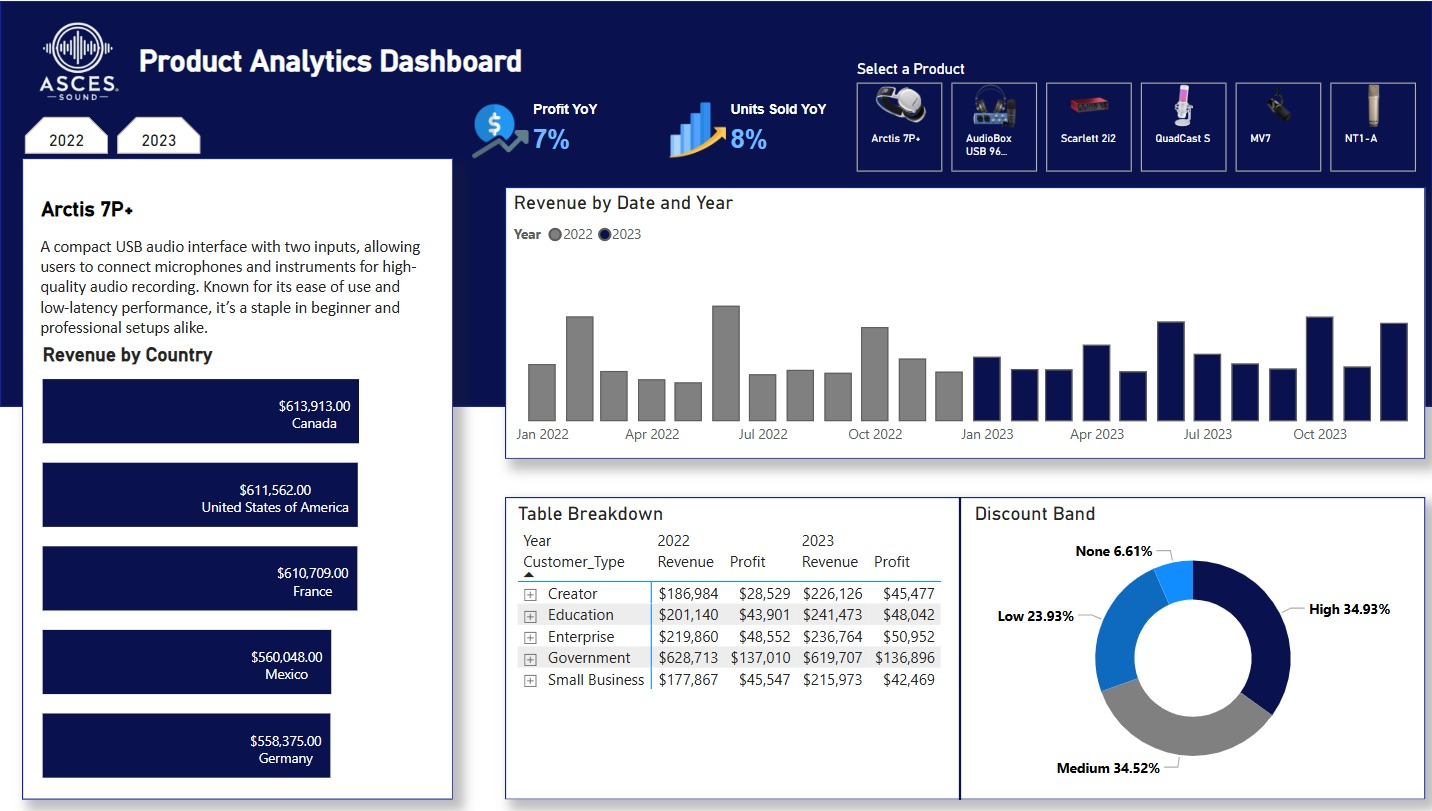

What the dashboard file says about the page in this screenshot:
{"tool":"powerbi","page":{"name":"Page 1","canvas":[1280,720],"ordinal":0},"visuals":[{"type":"shape","box":[9.7,0,1270.3,359.9],"z":0},{"type":"shape","box":[29.2,139.1,382.2,569],"z":1000},{"type":"shape","box":[457.1,165.3,816,241.2],"z":2000},{"type":"shape","box":[457.1,439.6,816,268.4],"z":3000},{"type":"image","box":[28.2,7.8,94.3,87.5],"z":4000},{"type":"advancedSlicerVisual","title":"Select a Product","fields":{"Values":["Query1.Image_url"]},"box":[764.5,52.5,508.7,104.1],"z":5000},{"type":"cardVisual","fields":{"Data":["Min(Query1.Description)"]},"box":[28.4,139.2,382.2,220.8],"z":6000},{"type":"cardVisual","fields":{"Data":["Min(Query1.Product)"]},"box":[29.3,134.8,244.7,90.4],"z":7000},{"type":"clusteredBarChart","title":"Revenue by Country","fields":{"Category":["Query1.Country"],"Y":["Sum(Query1.Revenue)"]},"box":[42.6,303.3,356.5,392.8],"z":8000},{"type":"columnChart","title":"Revenue by Date and Year","fields":{"Category":["Query1.Date"],"Y":["Sum(Query1.Revenue)"],"Series":["Query1.Year"]},"box":[460.2,168.5,816.7,234.1],"z":9000},{"type":"donutChart","title":"Discount Band","fields":{"Category":["Query1.Discount_Band"],"Y":["Sum(Query1.Revenue)"]},"box":[869,444.2,397.2,258],"z":10000},{"type":"pivotTable","title":"Table Breakdown","fields":{"Rows":["Query1.Customer_Type","Query1.Product"],"Columns":["Query1.Year"],"Values":["Sum(Query1.Revenue)","Sum(Query1.Profit)"]},"box":[463.7,444.2,392.8,258],"z":11000},{"type":"shape","box":[854.8,439.8,12.4,268.7],"z":12000},{"type":"advancedSlicerVisual","fields":{"Values":["Query1.Year"]},"box":[26.3,97.3,250.9,43.8],"z":13000},{"type":"cardVisual","fields":{"Data":["Query1.Profit YoY","Query1.Units Sold YoY"]},"box":[411.4,67.1,353.1,97.3],"z":14000},{"type":"shape","title":"Pro","box":[120.6,29.2,364.7,46.7],"z":15000}]}

Visuals, with their boxes in screenshot pixels (x1, y1, x2, y2), scaled from the page's 1280x720 canvas onto the 1432x811 screenshot:
shape: left=11, top=0, right=1431, bottom=405
shape: left=33, top=157, right=460, bottom=798
shape: left=511, top=186, right=1424, bottom=458
shape: left=511, top=495, right=1424, bottom=797
image: left=32, top=9, right=137, bottom=107
"Select a Product" advancedSlicerVisual: left=855, top=59, right=1424, bottom=176
cardVisual - Min(Query1.Description): left=32, top=157, right=459, bottom=406
cardVisual - Min(Query1.Product): left=33, top=152, right=307, bottom=254
"Revenue by Country" clusteredBarChart: left=48, top=342, right=446, bottom=784
"Revenue by Date and Year" columnChart: left=515, top=190, right=1429, bottom=453
"Discount Band" donutChart: left=972, top=500, right=1417, bottom=791
"Table Breakdown" pivotTable: left=519, top=500, right=958, bottom=791
shape: left=956, top=495, right=970, bottom=798
advancedSlicerVisual - Query1.Year: left=29, top=110, right=310, bottom=159
cardVisual - Query1.Profit YoY x Query1.Units Sold YoY: left=460, top=76, right=855, bottom=185
"Pro" shape: left=135, top=33, right=543, bottom=85
